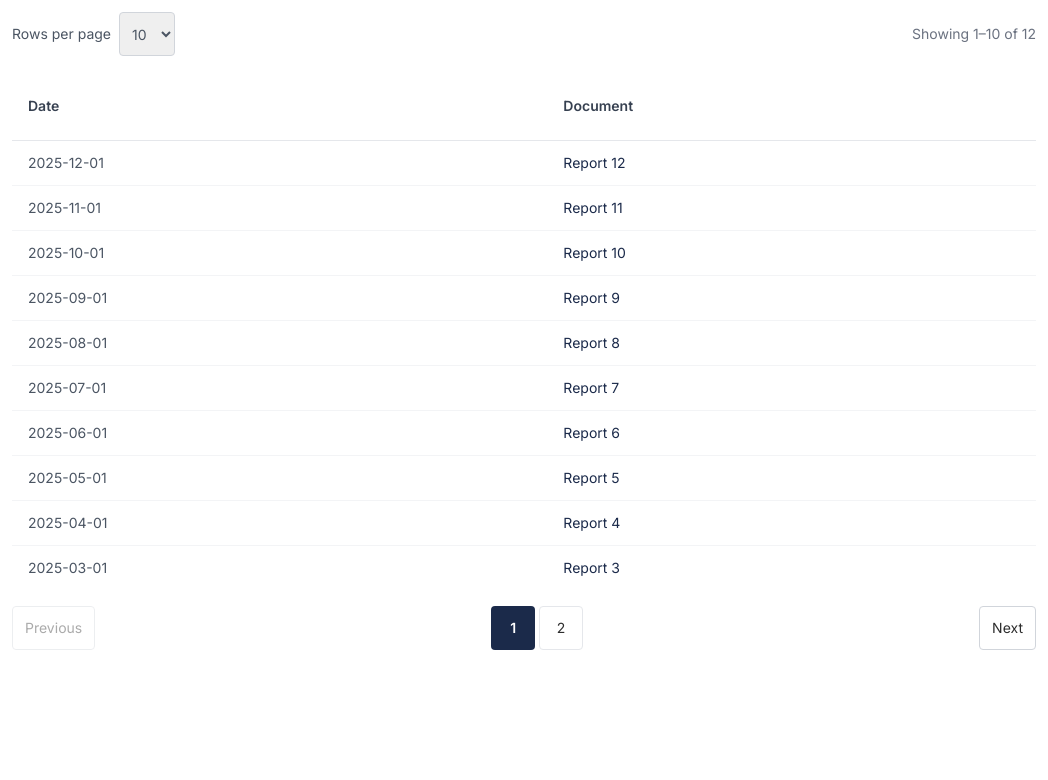
ReportsTable › resets to the first page when sorting changes
This screenshot has width=1048, height=780.
// Go to the second page, then click the Document header to sort.
Click the button "Next" at (1008, 628), box [979,606,1036,650]
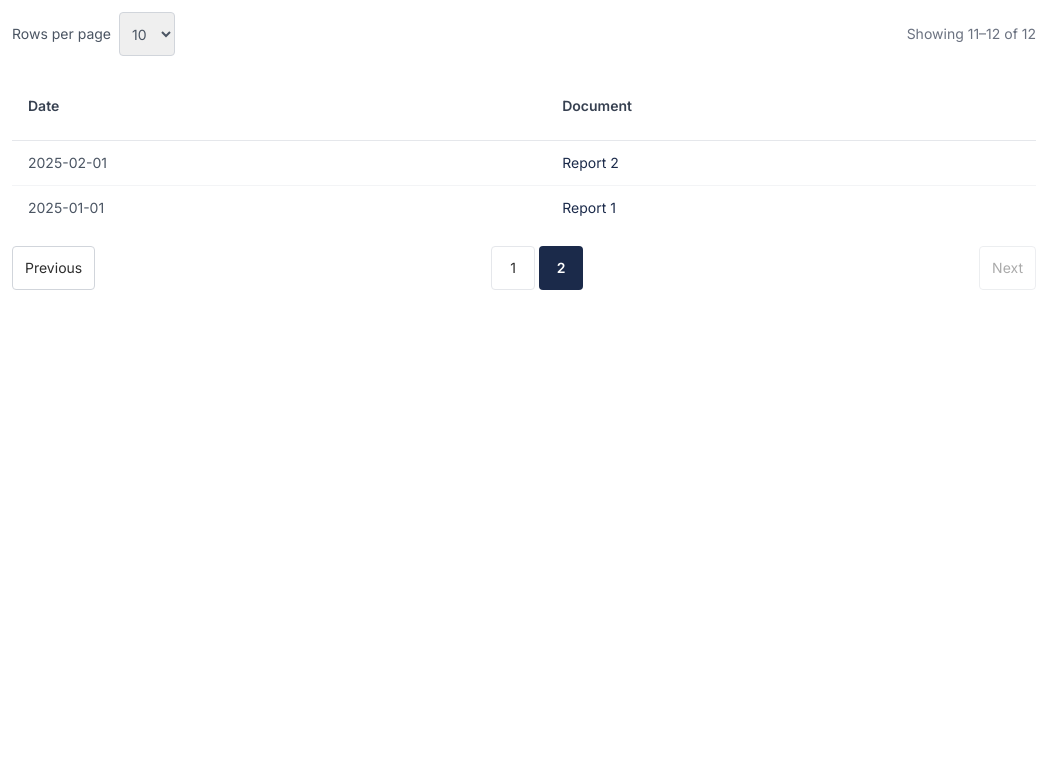
Expected: the text "Showing 11–12 of 12" is shown, [907,24,1036,44]
Click the button "Document" at (597, 106), box [562,84,632,128]
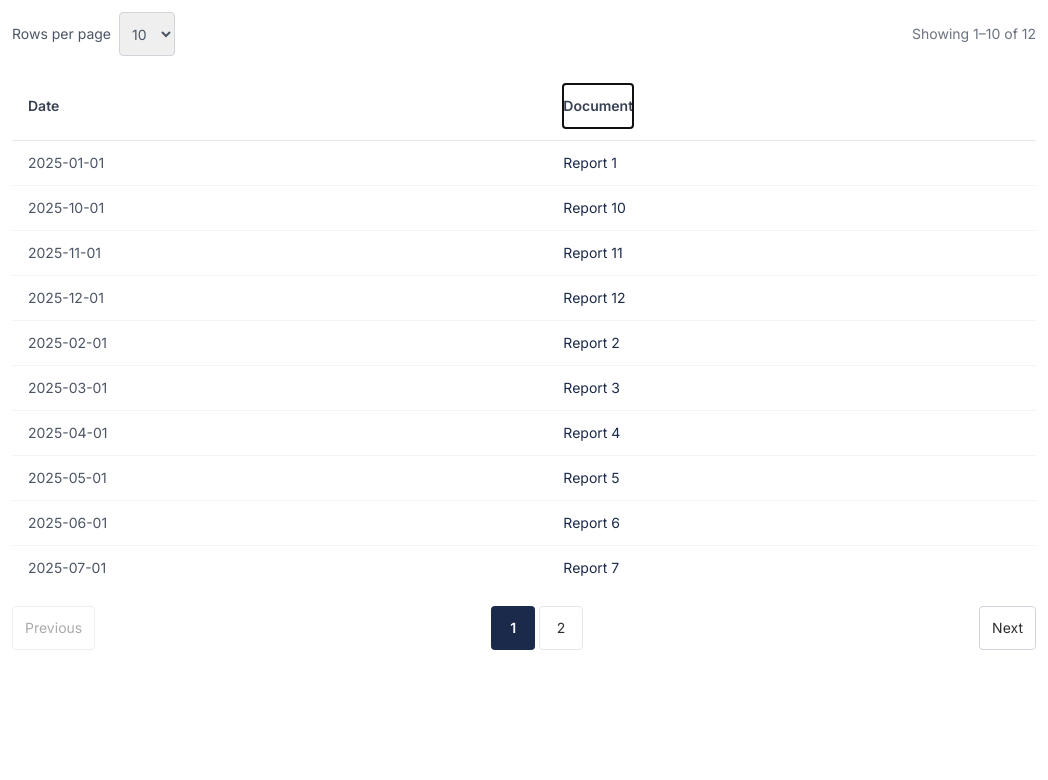
Expected: the text "Showing 1–10 of 12" is shown, [912,24,1036,44]
